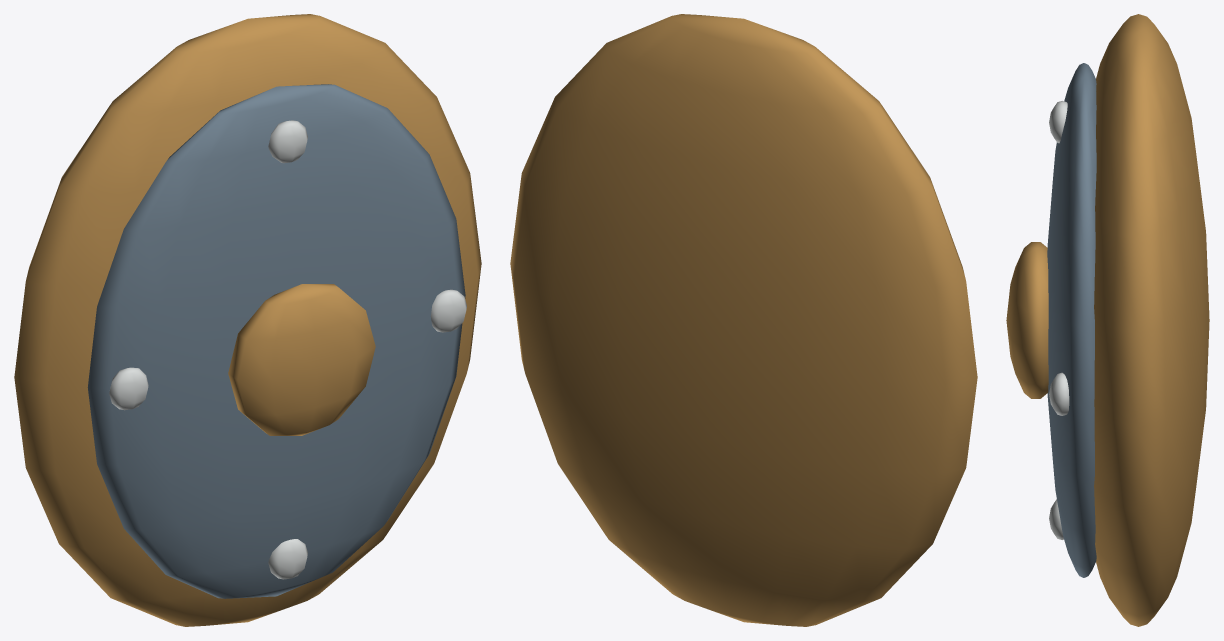
The model's file is trait-armored.glb.
3 renders of one model, left to right at view 1: azimuth 30°, elevation 25°; view 2: azimuth 150°, elevation 25°; view 3: azimuth 270°, elevation 25°, orthographic. The views are drawn at different scales.
Visible parts, largest first — view 1: trait-armored; view 2: trait-armored; view 3: trait-armored.
Part boxes in pixels (x1=…): trait-armored: x1=14, y1=14, x2=481, y2=626; trait-armored: x1=510, y1=14, x2=977, y2=626; trait-armored: x1=1006, y1=14, x2=1209, y2=626.
Bounding box in the file's own units: 0.47 × 0.58 × 0.186.
